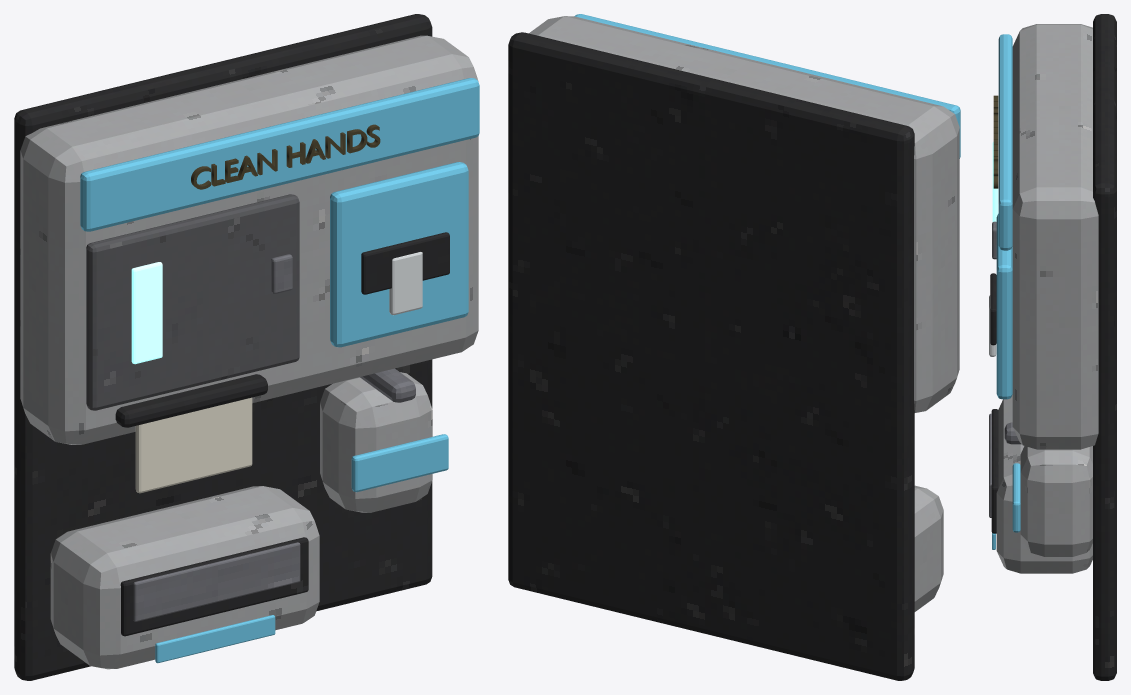
File: decor_med_hygiene_cabinet.glb
The picture shows the model from 3 angles, left to right: view 1: azimuth 30°, elevation 25°; view 2: azimuth 150°, elevation 25°; view 3: azimuth 270°, elevation 25°; orthographic projection. The views are drawn at different scales.
Parts seen in each view (by area): view 1: DEC_MedHygieneCabinet__Cabinet_Shell, DEC_MedHygieneCabinet__Wall_Back, DEC_MedHygieneCabinet__Towel_Door, DEC_MedHygieneCabinet__Disposal_Housing, DEC_MedHygieneCabinet__Header, DEC_MedHygieneCabinet__Glove_Dispenser, DEC_MedHygieneCabinet__Soap_Bottle, DEC_MedHygieneCabinet__Exposed_Towel, DEC_MedHygieneCabinet__Disposal_Flap, DEC_MedHygieneCabinet__Disposal_Hatch, DEC_MedHygieneCabinet__Soap_Band, DEC_MedHygieneCabinet__Towel_Outlet (+7 smaller); view 2: DEC_MedHygieneCabinet__Wall_Back, DEC_MedHygieneCabinet__Cabinet_Shell, DEC_MedHygieneCabinet__Disposal_Housing, DEC_MedHygieneCabinet__Header; view 3: DEC_MedHygieneCabinet__Cabinet_Shell, DEC_MedHygieneCabinet__Wall_Back, DEC_MedHygieneCabinet__Soap_Bottle, DEC_MedHygieneCabinet__Disposal_Housing, DEC_MedHygieneCabinet__Header, DEC_MedHygieneCabinet__Glove_Dispenser, DEC_MedHygieneCabinet__Disposal_Hatch, DEC_MedHygieneCabinet__Soap_Band, DEC_MedHygieneCabinet__Header_Label, DEC_MedHygieneCabinet__Glove_Outlet, DEC_MedHygieneCabinet__Towel_Window, DEC_MedHygieneCabinet__Disposal_Flap (+1 smaller).
Part boxes in pixels (x1,y1,x2,y2): DEC_MedHygieneCabinet__Cabinet_Shell: (20,35,478,444); DEC_MedHygieneCabinet__Wall_Back: (14,14,432,680); DEC_MedHygieneCabinet__Towel_Door: (86,194,299,410); DEC_MedHygieneCabinet__Disposal_Housing: (50,486,319,669); DEC_MedHygieneCabinet__Header: (80,78,479,231); DEC_MedHygieneCabinet__Glove_Dispenser: (330,162,468,347); DEC_MedHygieneCabinet__Soap_Bottle: (320,372,432,512); DEC_MedHygieneCabinet__Exposed_Towel: (135,397,252,493); DEC_MedHygieneCabinet__Disposal_Flap: (133,542,300,621); DEC_MedHygieneCabinet__Disposal_Hatch: (120,537,308,636); DEC_MedHygieneCabinet__Soap_Band: (351,434,448,492); DEC_MedHygieneCabinet__Towel_Outlet: (115,374,267,427); DEC_MedHygieneCabinet__Wall_Back: (508,32,914,680); DEC_MedHygieneCabinet__Cabinet_Shell: (529,16,959,412); DEC_MedHygieneCabinet__Disposal_Housing: (914,485,943,611); DEC_MedHygieneCabinet__Header: (574,14,960,158); DEC_MedHygieneCabinet__Cabinet_Shell: (1012,24,1098,449); DEC_MedHygieneCabinet__Wall_Back: (1093,14,1116,680); DEC_MedHygieneCabinet__Soap_Bottle: (1020,446,1092,556); DEC_MedHygieneCabinet__Disposal_Housing: (996,395,1092,573); DEC_MedHygieneCabinet__Header: (998,34,1012,250); DEC_MedHygieneCabinet__Glove_Dispenser: (996,213,1012,399); DEC_MedHygieneCabinet__Disposal_Hatch: (991,409,998,533); DEC_MedHygieneCabinet__Soap_Band: (1012,463,1020,532); DEC_MedHygieneCabinet__Header_Label: (993,95,998,188); DEC_MedHygieneCabinet__Glove_Outlet: (990,273,996,345); DEC_MedHygieneCabinet__Towel_Window: (992,141,998,221); DEC_MedHygieneCabinet__Disposal_Flap: (989,413,991,517).
Size of the model in its own units: 1.08 by 1.37 by 0.319.
Materials: 9 (4 with a texture image).
